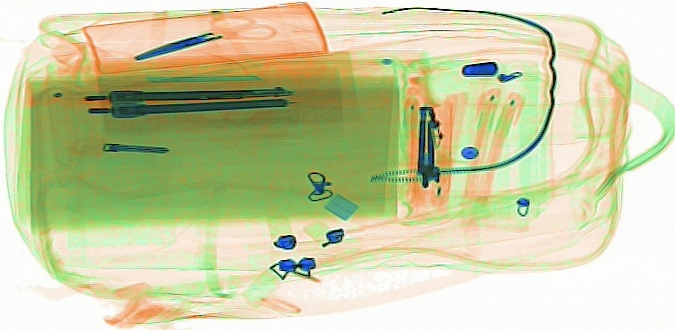scissors: (129, 11, 278, 61)
